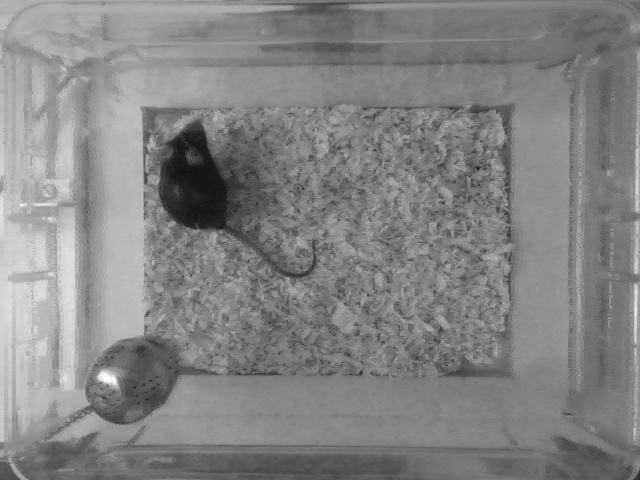mice: (156, 116, 319, 277)
